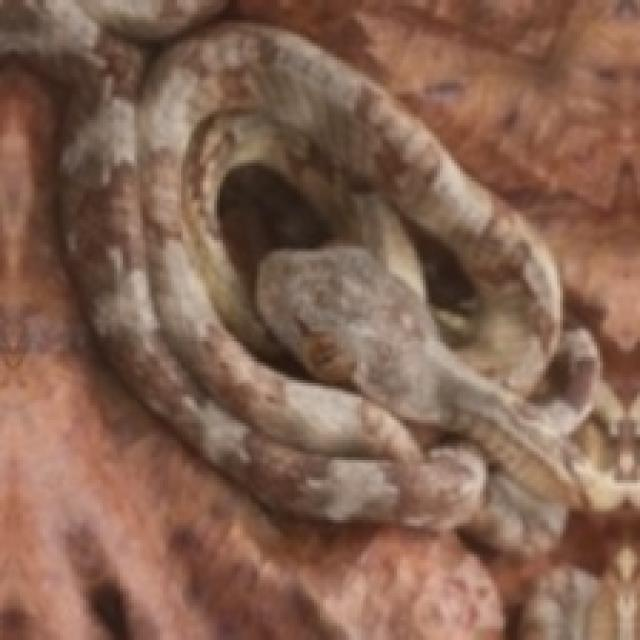dog-toothed cat snake: (60, 23, 597, 551)
